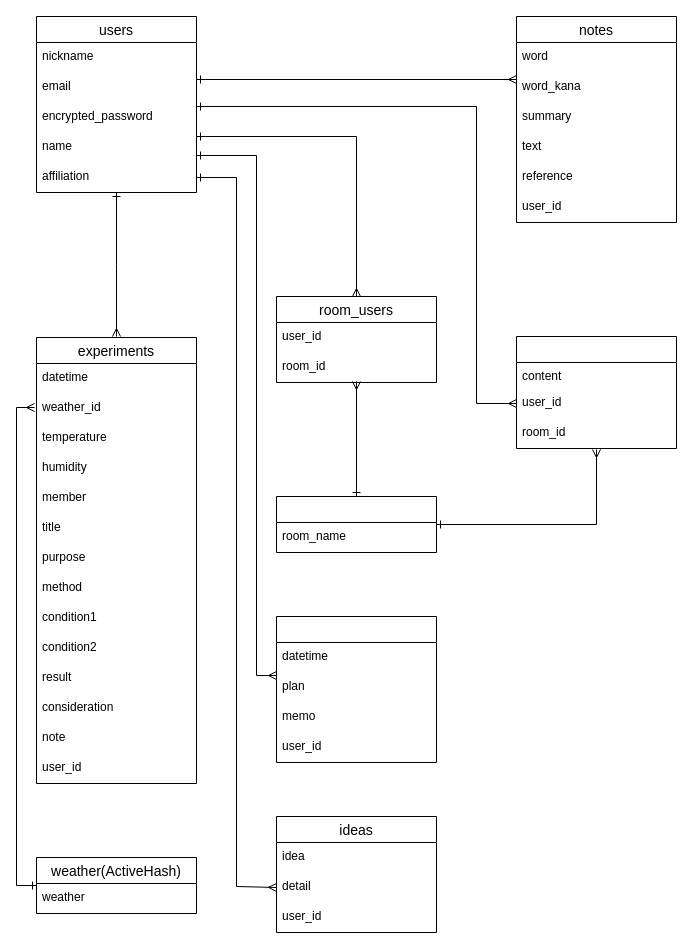
Some shapes in this 693 by 949 pixel diagram are drawn without their labels. The box of each missing label's shape, as (x1, y1, x2, y2) in pixels:
messages: (516, 336, 676, 448)
rooms: (276, 496, 436, 552)
schedules: (276, 616, 436, 762)
